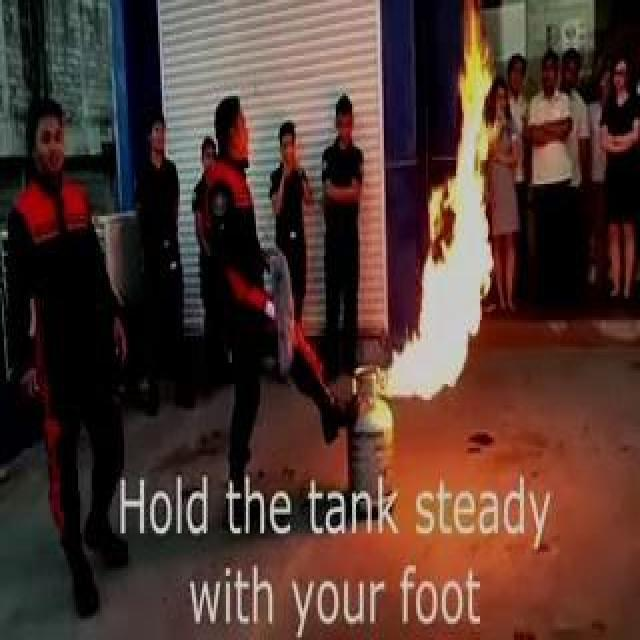Smoke: (360, 66, 516, 410)
